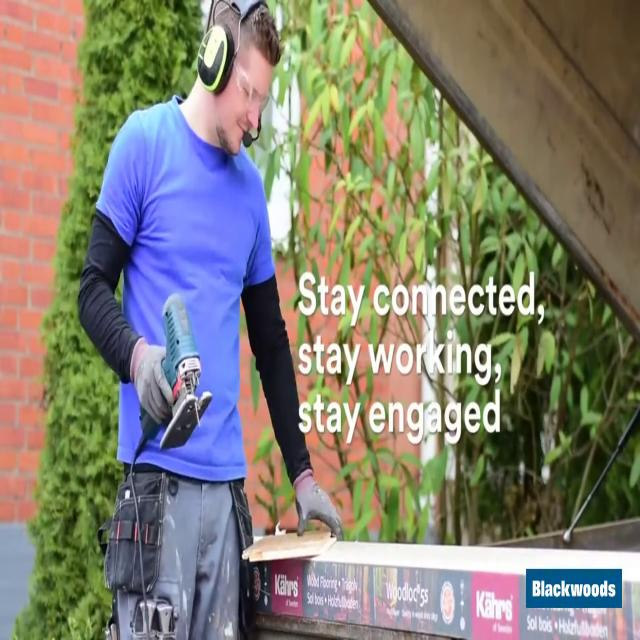earmuff: (196, 22, 236, 94)
glasses: (232, 58, 274, 117)
